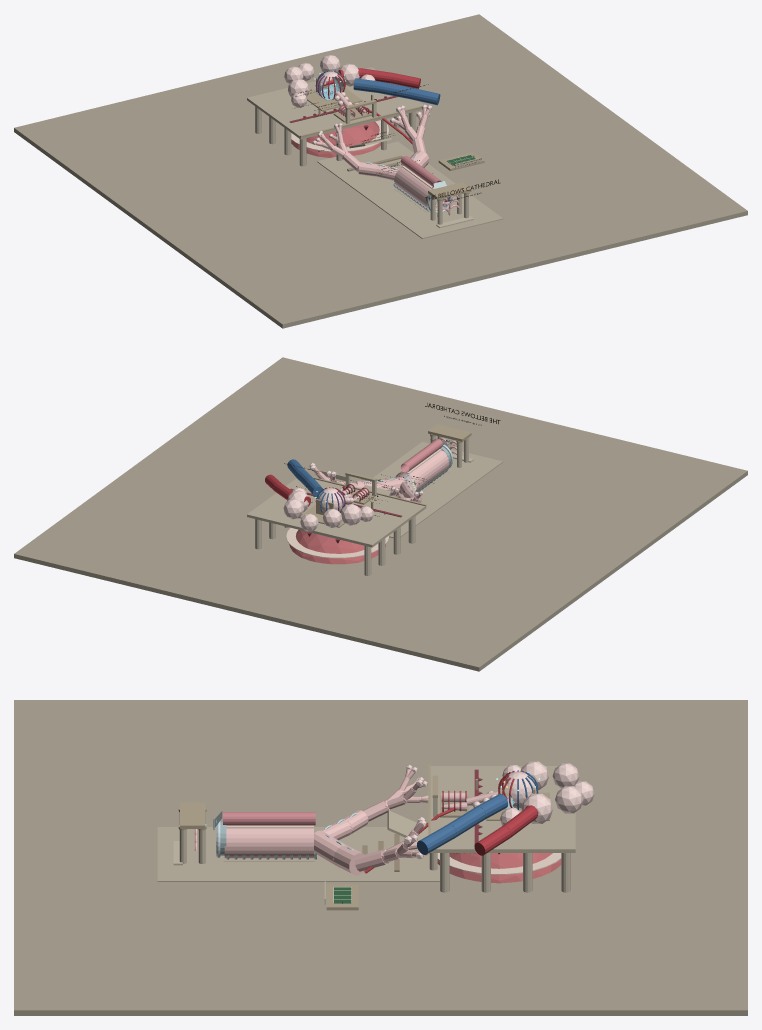
File: body-lungs.glb
3 renders of one model, top to bottom at view 1: azimuth 30°, elevation 25°; view 2: azimuth 150°, elevation 25°; view 3: azimuth 270°, elevation 25°, orthographic. The views are drawn at different scales.
Parts seen in each view (by area): view 1: Ground, Plaza, Mezz_Slab, Diaphragm, Nave_Tube, Dome_Deck; view 2: Ground, Mezz_Slab, Plaza, Diaphragm, Nave_Tube, Diaphragm_Flat; view 3: Ground, Plaza, Mezz_Slab, Nave_Tube, Diaphragm, Oesophagus, Diaphragm_Flat, Portico_Lintel, PulmArtery_1, Alveolus_4, Alveolus_Main, Ramp (+7 smaller).
Boxes of the visible parts, x1,y1,x2,y2 form: Ground: [14, 14, 747, 328]; Plaza: [317, 141, 503, 238]; Mezz_Slab: [247, 67, 423, 139]; Diaphragm: [291, 121, 380, 157]; Nave_Tube: [394, 167, 448, 209]; Dome_Deck: [306, 87, 362, 111]; Ground: [14, 357, 747, 671]; Mezz_Slab: [247, 478, 426, 547]; Plaza: [373, 442, 503, 537]; Diaphragm: [289, 530, 385, 564]; Nave_Tube: [395, 450, 449, 491]; Diaphragm_Flat: [286, 527, 389, 558]; Ground: [14, 700, 747, 1015]; Plaza: [157, 827, 439, 881]; Mezz_Slab: [429, 766, 575, 852]; Nave_Tube: [224, 828, 313, 858]; Diaphragm: [437, 853, 561, 883]; Oesophagus: [223, 812, 315, 825]; Diaphragm_Flat: [437, 853, 561, 874]; Portico_Lintel: [180, 802, 205, 828]; PulmArtery_1: [417, 824, 456, 854]; Alveolus_4: [555, 786, 583, 813]; Alveolus_Main: [508, 771, 536, 809]; Ramp: [387, 810, 428, 840].
Bounding box in the file's own units: 460 × 108 × 460.
